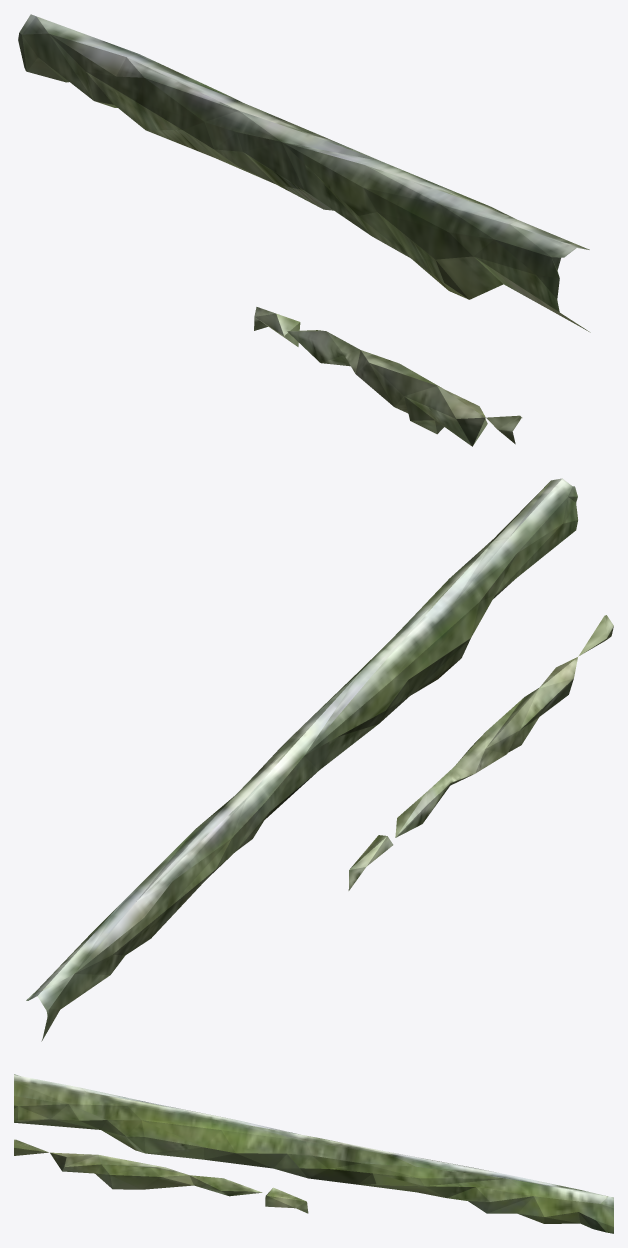
The picture shows the model from 3 angles, top to bottom: view 1: azimuth 30°, elevation 25°; view 2: azimuth 150°, elevation 25°; view 3: azimuth 270°, elevation 25°; orthographic projection. The views are drawn at different scales.
Size of the model in its own units: 0.854 by 1.58 by 5.9.
1 material, 1 textured.
